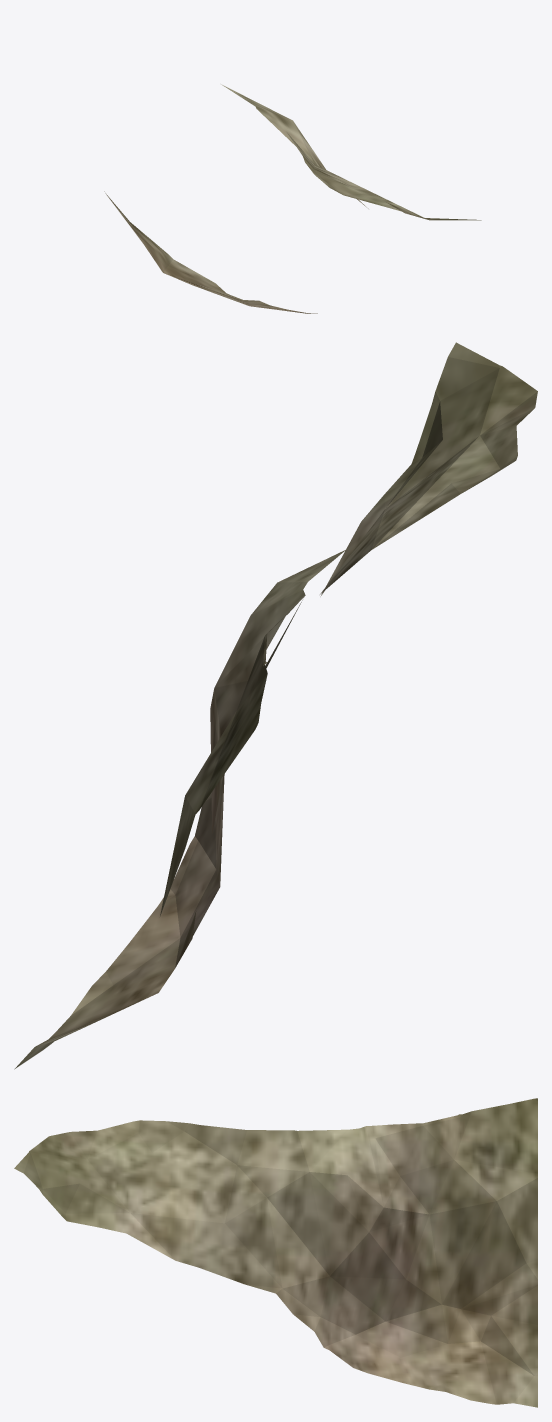
3 renders of one model, top to bottom at view 1: azimuth 30°, elevation 25°; view 2: azimuth 150°, elevation 25°; view 3: azimuth 270°, elevation 25°, orthographic. The views are drawn at different scales.
Bounding box in the file's own units: 0.5299 × 0.8413 × 1.67.
1 material, 1 textured.
